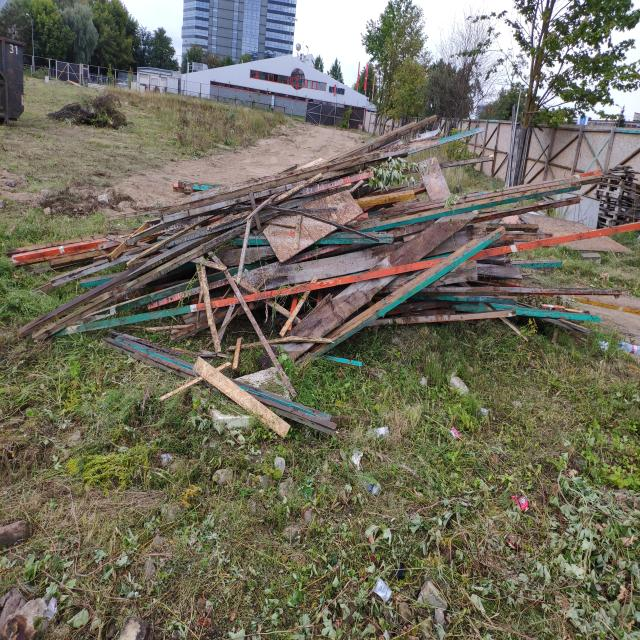entulho: (24, 258, 468, 382), (119, 160, 449, 272), (264, 162, 456, 260), (192, 362, 338, 445), (355, 286, 613, 331), (467, 214, 640, 260), (6, 221, 161, 264), (24, 287, 138, 338), (582, 169, 638, 230)
